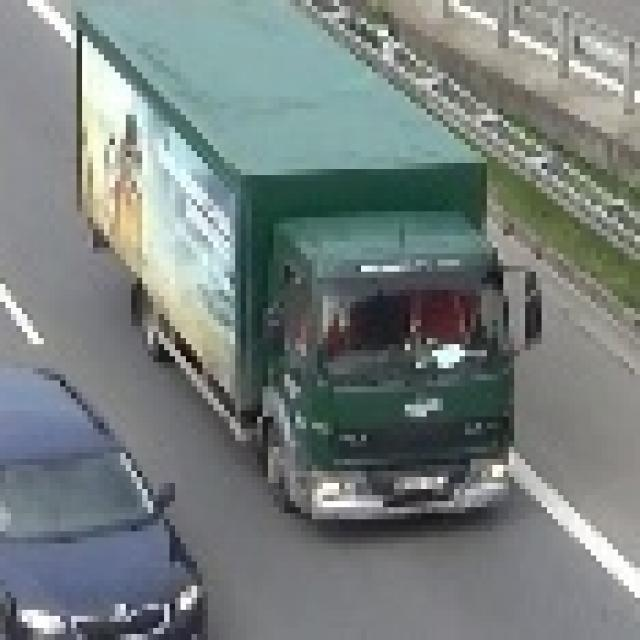truck: (239, 195, 563, 549)
